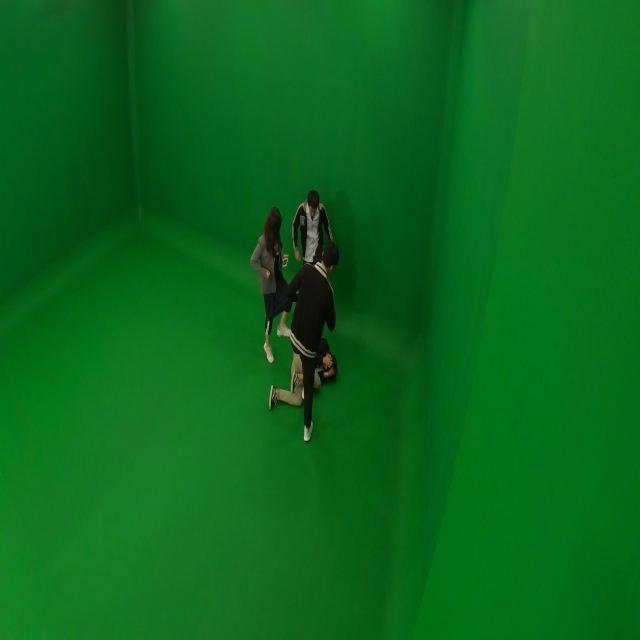fight: (250, 187, 342, 444)
